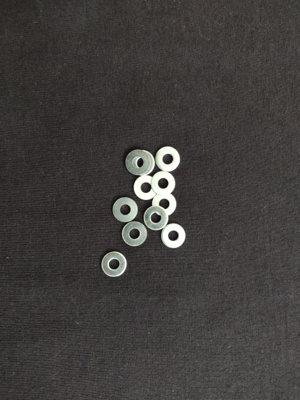circle: (125, 149, 151, 178), (129, 149, 155, 178), (155, 144, 181, 173), (150, 169, 176, 198), (112, 195, 138, 224), (122, 220, 148, 249), (102, 250, 128, 279), (161, 222, 187, 251), (142, 204, 168, 233), (152, 191, 178, 220), (133, 174, 159, 202)
